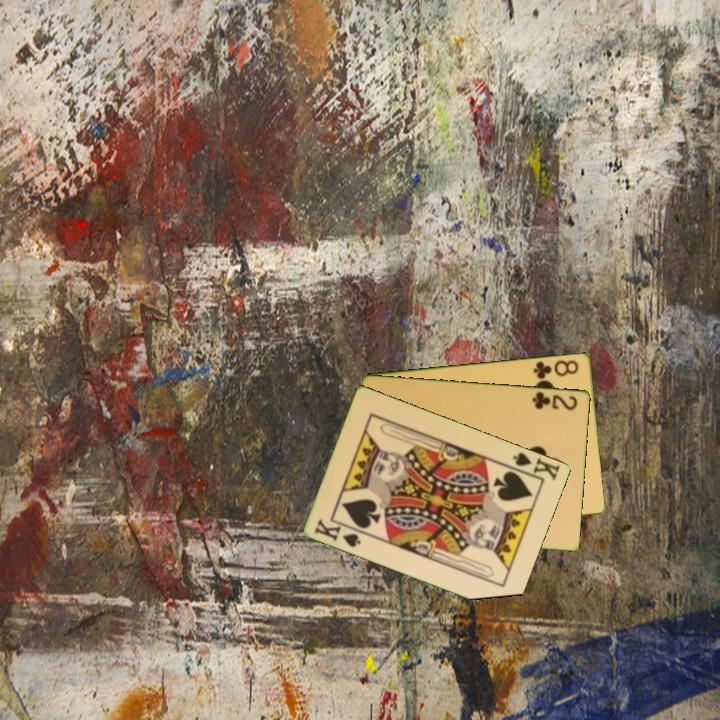2c: (529, 388, 581, 413)
8c: (530, 356, 582, 381)
Ks: (505, 448, 563, 483), (311, 515, 364, 550)
